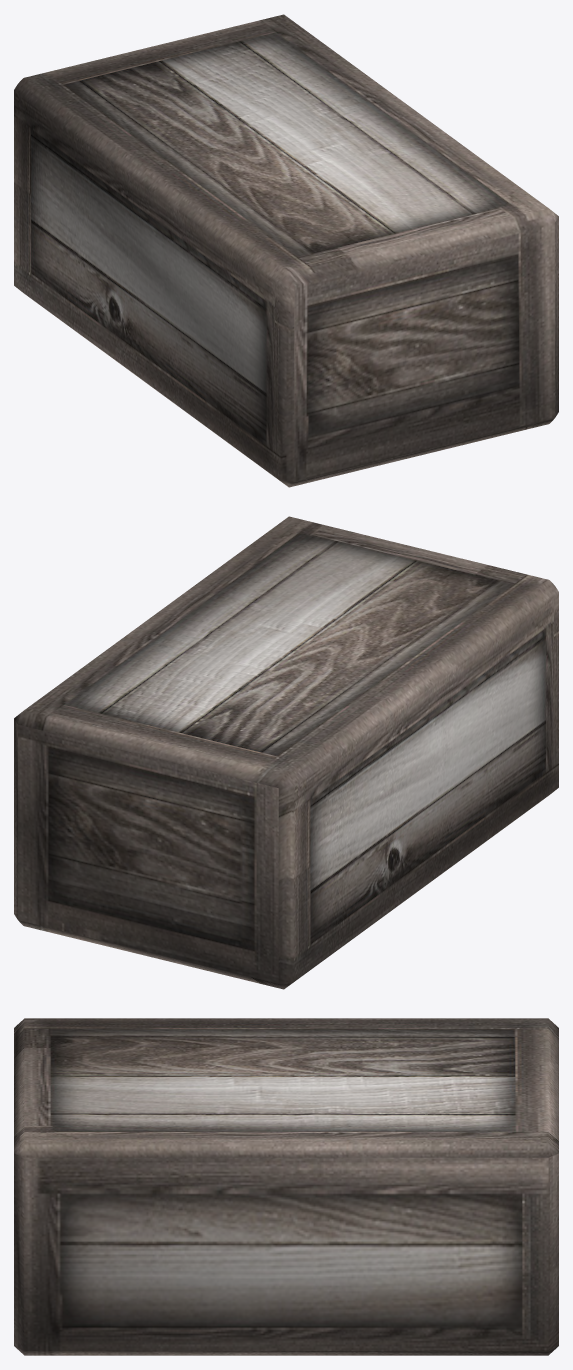
Rendered from smallcrate.fbx.
3 renders of one model, top to bottom at view 1: azimuth 30°, elevation 25°; view 2: azimuth 150°, elevation 25°; view 3: azimuth 270°, elevation 25°, orthographic.
Parts seen in each view (by area): view 1: small_crate; view 2: small_crate; view 3: small_crate.
Boxes of the visible parts, x1=… form: small_crate: x1=14, y1=14, x2=558, y2=487; small_crate: x1=14, y1=516, x2=558, y2=989; small_crate: x1=14, y1=1018, x2=558, y2=1355.
Size of the model in its own units: 29.94 by 51.34 by 22.03.
